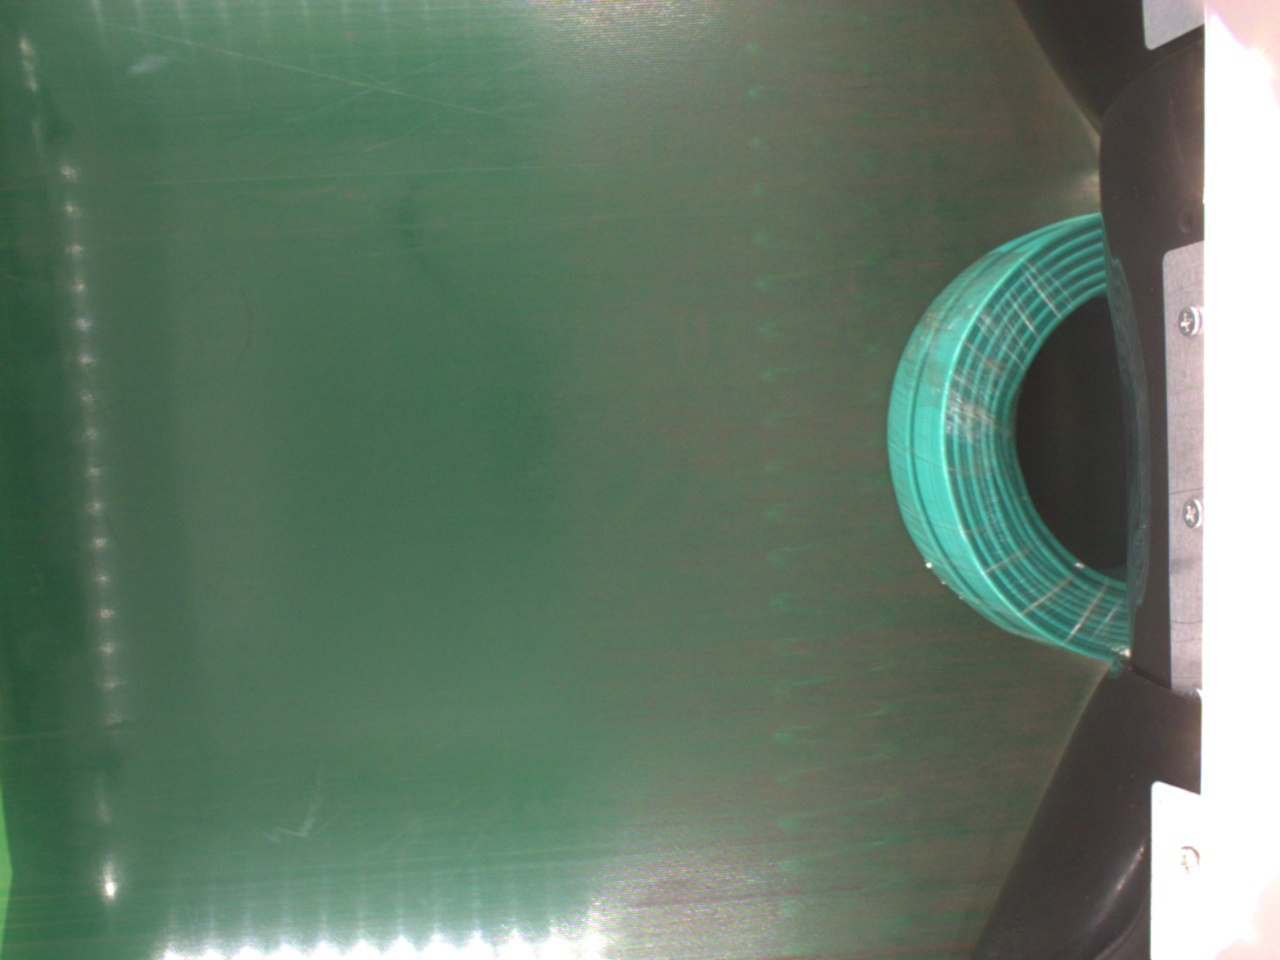green: (889, 210, 1137, 664)
